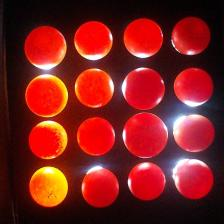fertile: (122, 113, 168, 158), (122, 68, 165, 110), (174, 67, 214, 107), (173, 114, 215, 152), (127, 162, 167, 201), (174, 159, 213, 199), (172, 16, 211, 56), (81, 167, 119, 208)
infertile: (24, 25, 68, 70), (26, 74, 68, 118), (29, 166, 69, 207), (123, 18, 163, 59), (74, 20, 114, 60), (28, 120, 68, 159), (75, 68, 114, 108), (77, 116, 115, 156)
